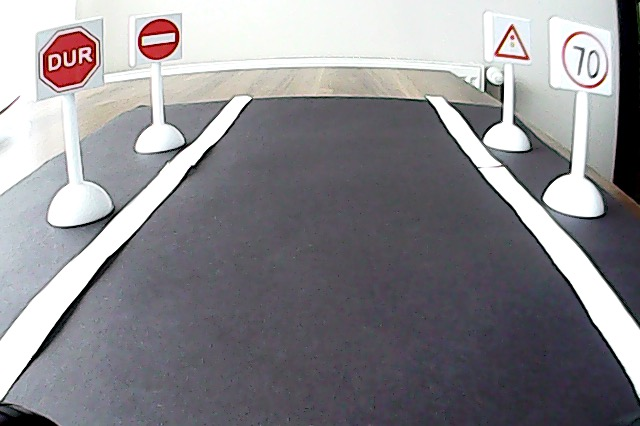do not enter: (135, 18, 182, 61)
red light: (490, 14, 531, 61)
speed limit 70: (553, 21, 610, 92)
stop sign: (36, 31, 101, 91)
